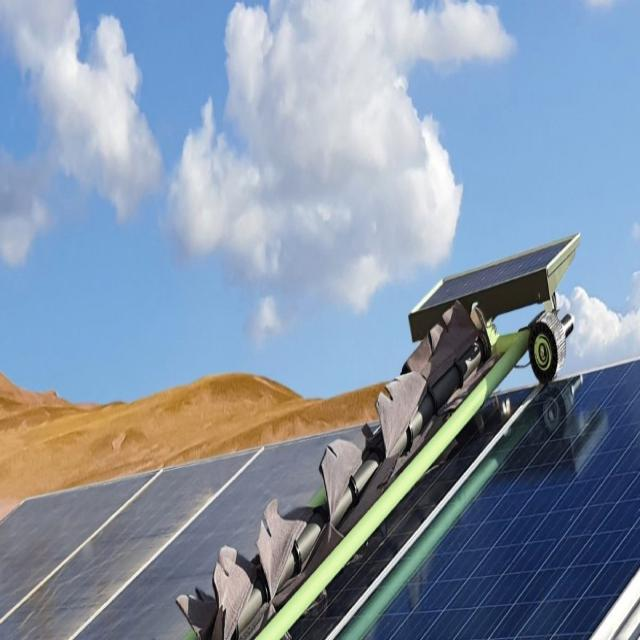clean-solar-panel: (290, 361, 640, 640)
dust-solar-panel: (1, 435, 334, 638)
